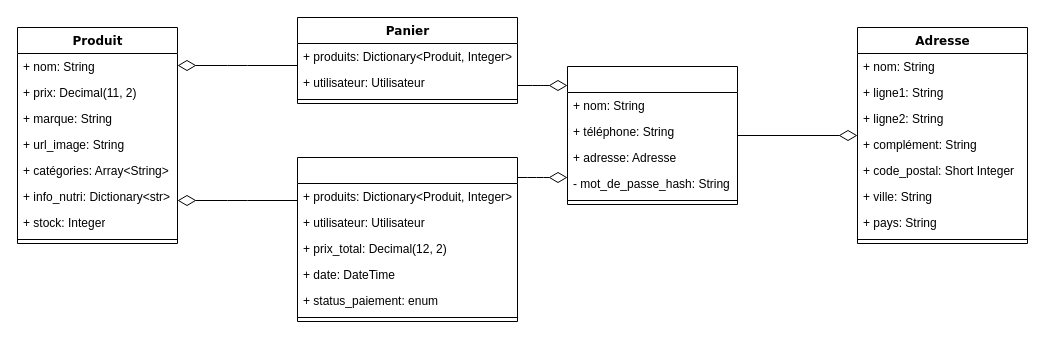
Some shapes in this 1045 by 339 pixel diagram are drawn without their labels. Each missing label, with the box of its shape:
Facture: (296, 156, 518, 322)
Utilisateur: (566, 66, 738, 204)
